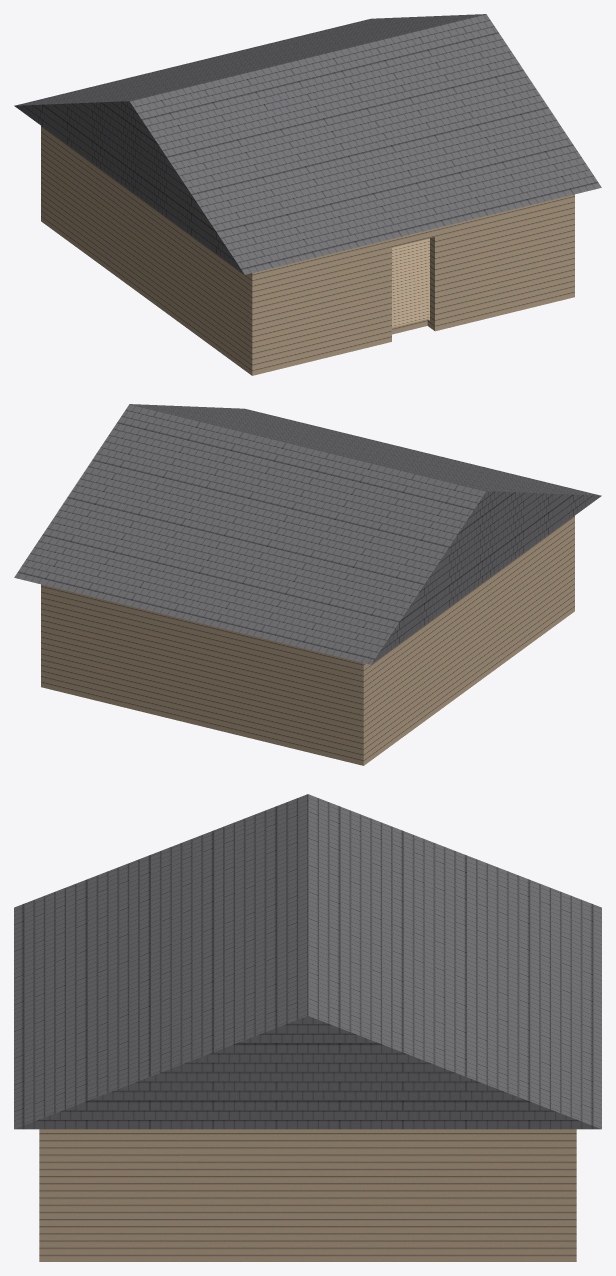
Rendered from starter_home_minimal_traditional.glb.
3 renders of one model, top to bottom at view 1: azimuth 30°, elevation 25°; view 2: azimuth 150°, elevation 25°; view 3: azimuth 270°, elevation 25°, orthographic. The views are drawn at different scales.
Parts seen in each view (by area): view 1: starter_home_minimal_traditional-col; view 2: starter_home_minimal_traditional-col; view 3: starter_home_minimal_traditional-col.
Part boxes in pixels (x1,y1,x2,y2): starter_home_minimal_traditional-col: [14, 14, 601, 375]; starter_home_minimal_traditional-col: [14, 404, 601, 765]; starter_home_minimal_traditional-col: [14, 794, 601, 1261].
Bounding box in the file's own units: 8.3 × 4.48 × 9.3.
Materials: 2 (2 with a texture image).
